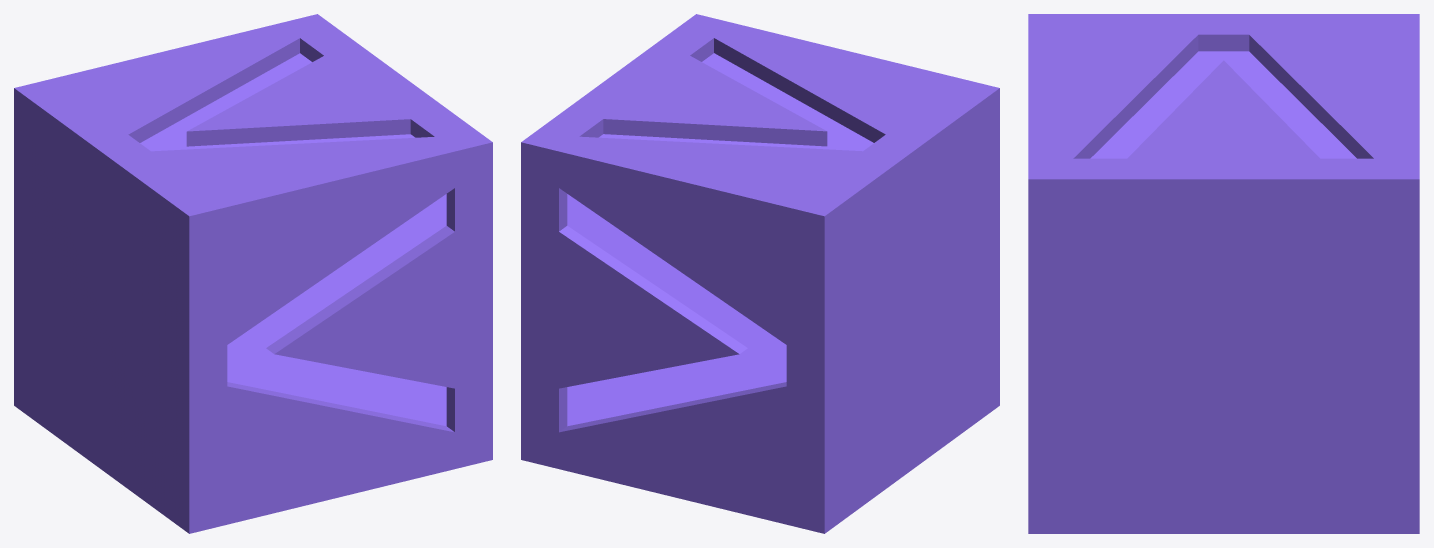
File: block.glb
The picture shows the model from 3 angles, left to right: view 1: azimuth 30°, elevation 25°; view 2: azimuth 150°, elevation 25°; view 3: azimuth 270°, elevation 25°; orthographic projection. The views are drawn at different scales.
Visible parts, largest first — view 1: Cube; view 2: Cube; view 3: Cube.
Part boxes in pixels (x1=…): Cube: x1=14, y1=14, x2=492, y2=533; Cube: x1=521, y1=14, x2=999, y2=533; Cube: x1=1028, y1=14, x2=1419, y2=533.
Size of the model in its own units: 2 by 2 by 2.
